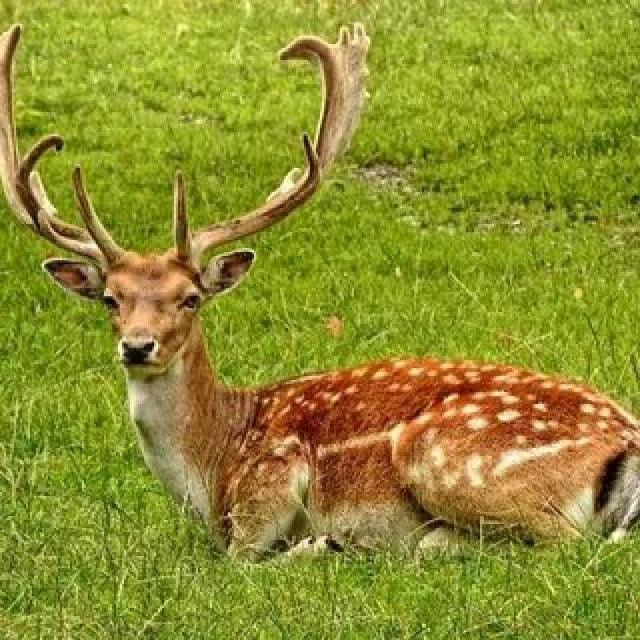deer: (19, 108, 640, 640)
